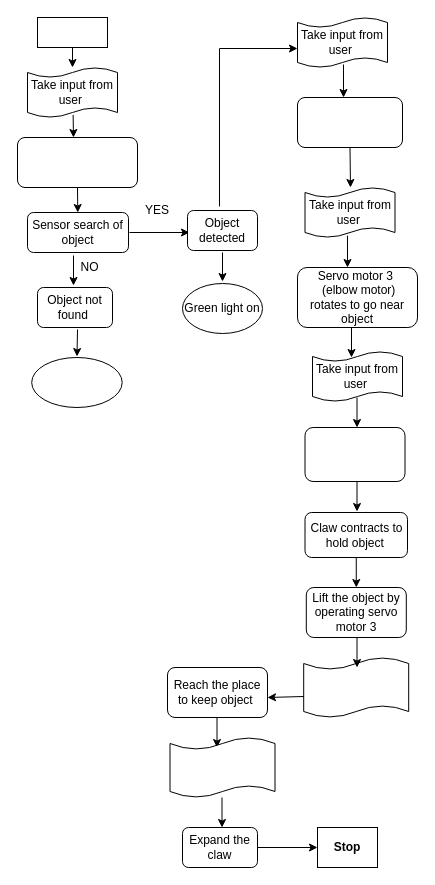
The diagram is 435 pixels wide and 885 high, and some of its shapes have lost their labels. Each missing label, with the box of its shape:
Bulb stay off: (31, 356, 122, 408)
Servo motor 1 (Base motor) rotates towards object: (16, 136, 138, 188)
Servo motor 2 (Shoulder motor) rotates: (296, 96, 402, 148)
servo motor 4 (Claw motor) starts: (304, 426, 405, 482)
Start: (36, 16, 108, 48)
Take input to expand the claw: (169, 736, 275, 798)
Take input to rotate base motor: (303, 656, 409, 718)
